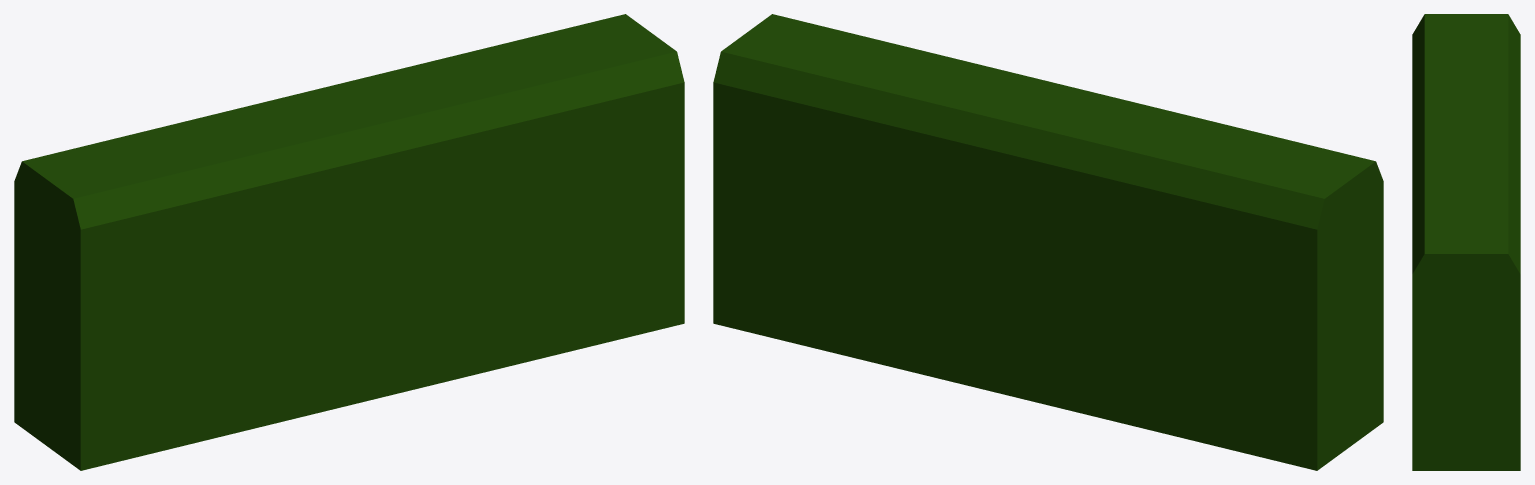
Rendered from TT_Hedge_single.fbx.
3 views of the same model, side by side, from view 1: azimuth 30°, elevation 25°; view 2: azimuth 150°, elevation 25°; view 3: azimuth 270°, elevation 25° (orthographic). The views are drawn at different scales.
Visible parts, largest first — view 1: maze_Single; view 2: maze_Single; view 3: maze_Single.
Part boxes in pixels (left/top/right/bottom): maze_Single: left=14, top=14, right=684, bottom=470; maze_Single: left=713, top=14, right=1383, bottom=470; maze_Single: left=1412, top=14, right=1520, bottom=470.
Size of the model in its own units: 361 by 152 by 68.8.
